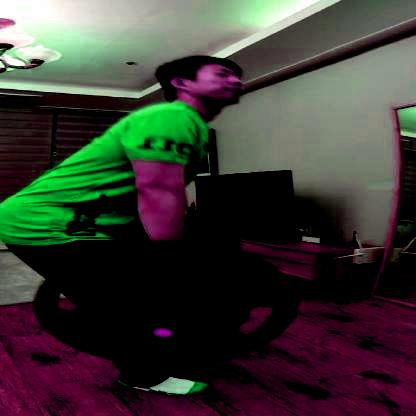Barbell: (140, 321, 180, 345)
